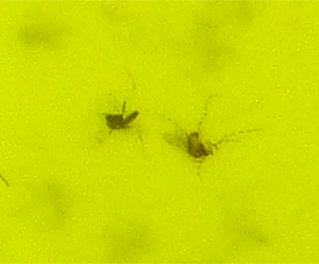Nematocera: (166, 128, 219, 164), (100, 100, 140, 135)
